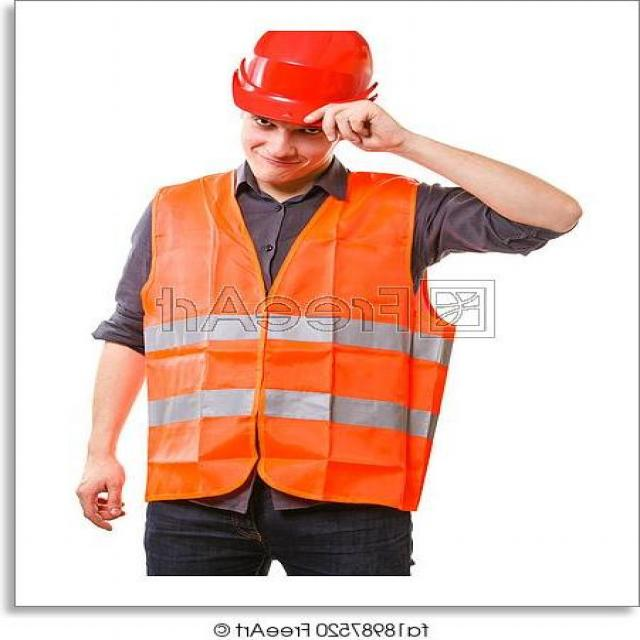Reflective-Jacket: (128, 170, 450, 506)
Safety-Helmet: (226, 30, 384, 126)
